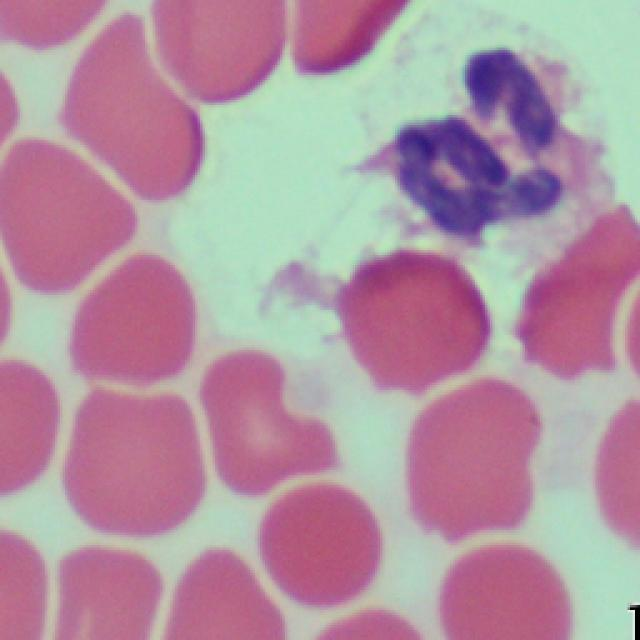RBC: (65, 240, 203, 534), (59, 18, 220, 200), (396, 375, 535, 555), (337, 243, 490, 403), (512, 205, 640, 370), (196, 337, 317, 506), (0, 133, 126, 295), (253, 483, 381, 612), (146, 0, 297, 102), (430, 538, 572, 638), (48, 535, 161, 638), (274, 0, 418, 70), (0, 348, 62, 504), (589, 394, 640, 552), (0, 0, 109, 58)
WBC: (402, 33, 598, 236)
